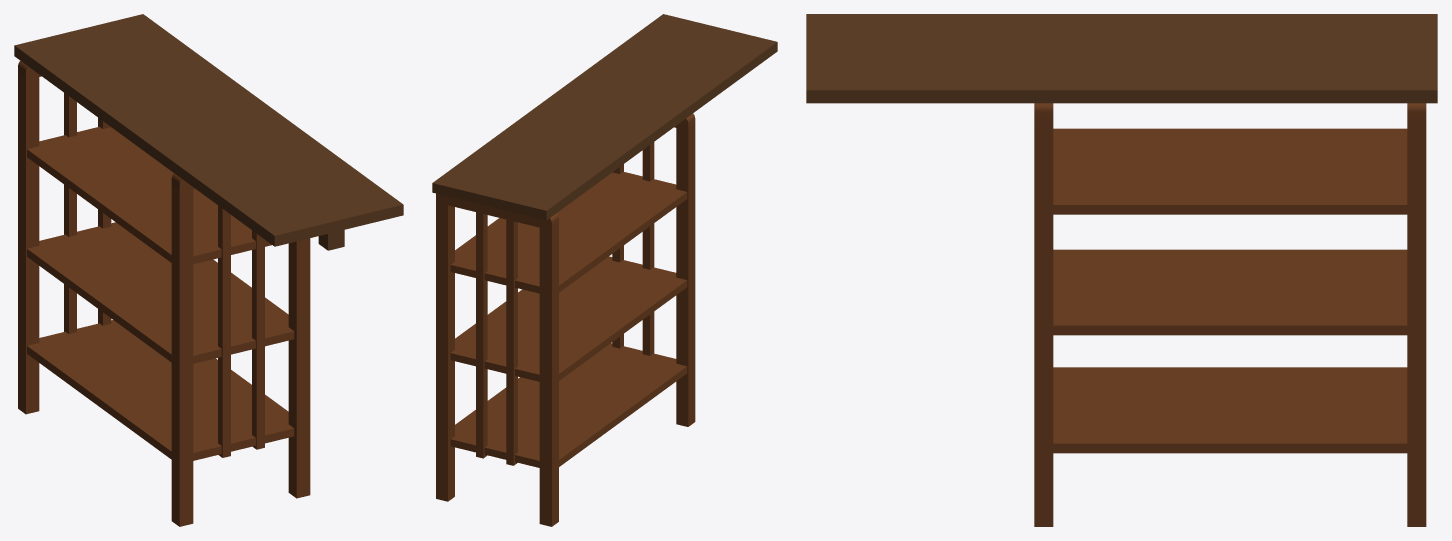
File: mesa_chiquita.fbx
3 renders of one model, left to right at view 1: azimuth 30°, elevation 25°; view 2: azimuth 150°, elevation 25°; view 3: azimuth 270°, elevation 25°, orthographic. The views are drawn at different scales.
Visible parts, largest first — view 1: Cube.024; view 2: Cube.024; view 3: Cube.024.
Part boxes in pixels (<box>): Cube.024: <box>14,14,403,526</box>; Cube.024: <box>432,14,777,526</box>; Cube.024: <box>806,14,1437,526</box>.
Size of the model in its own units: 146 by 385 by 506.
